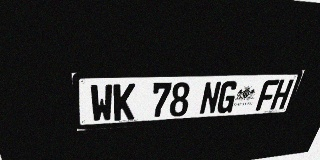7: (150, 82, 172, 118)
8: (169, 82, 192, 117)
F: (255, 80, 280, 111)
G: (216, 81, 239, 114)
H: (270, 79, 294, 110)
K: (113, 83, 135, 121)
N: (199, 81, 222, 115)
W: (89, 84, 113, 122)
